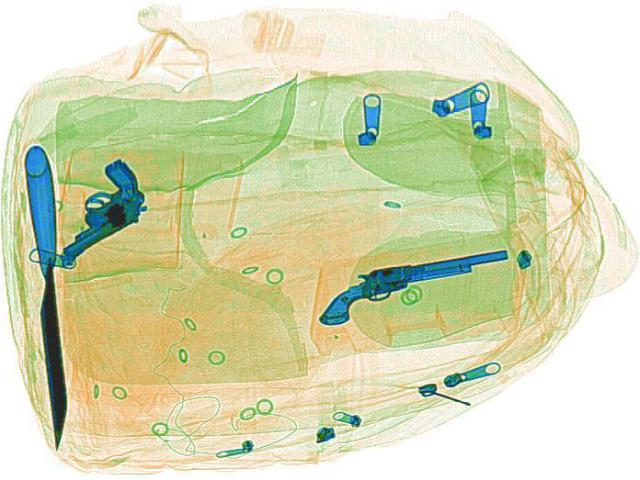Gun: (304, 244, 522, 324), (13, 155, 173, 259)
Knife: (20, 141, 70, 449)
